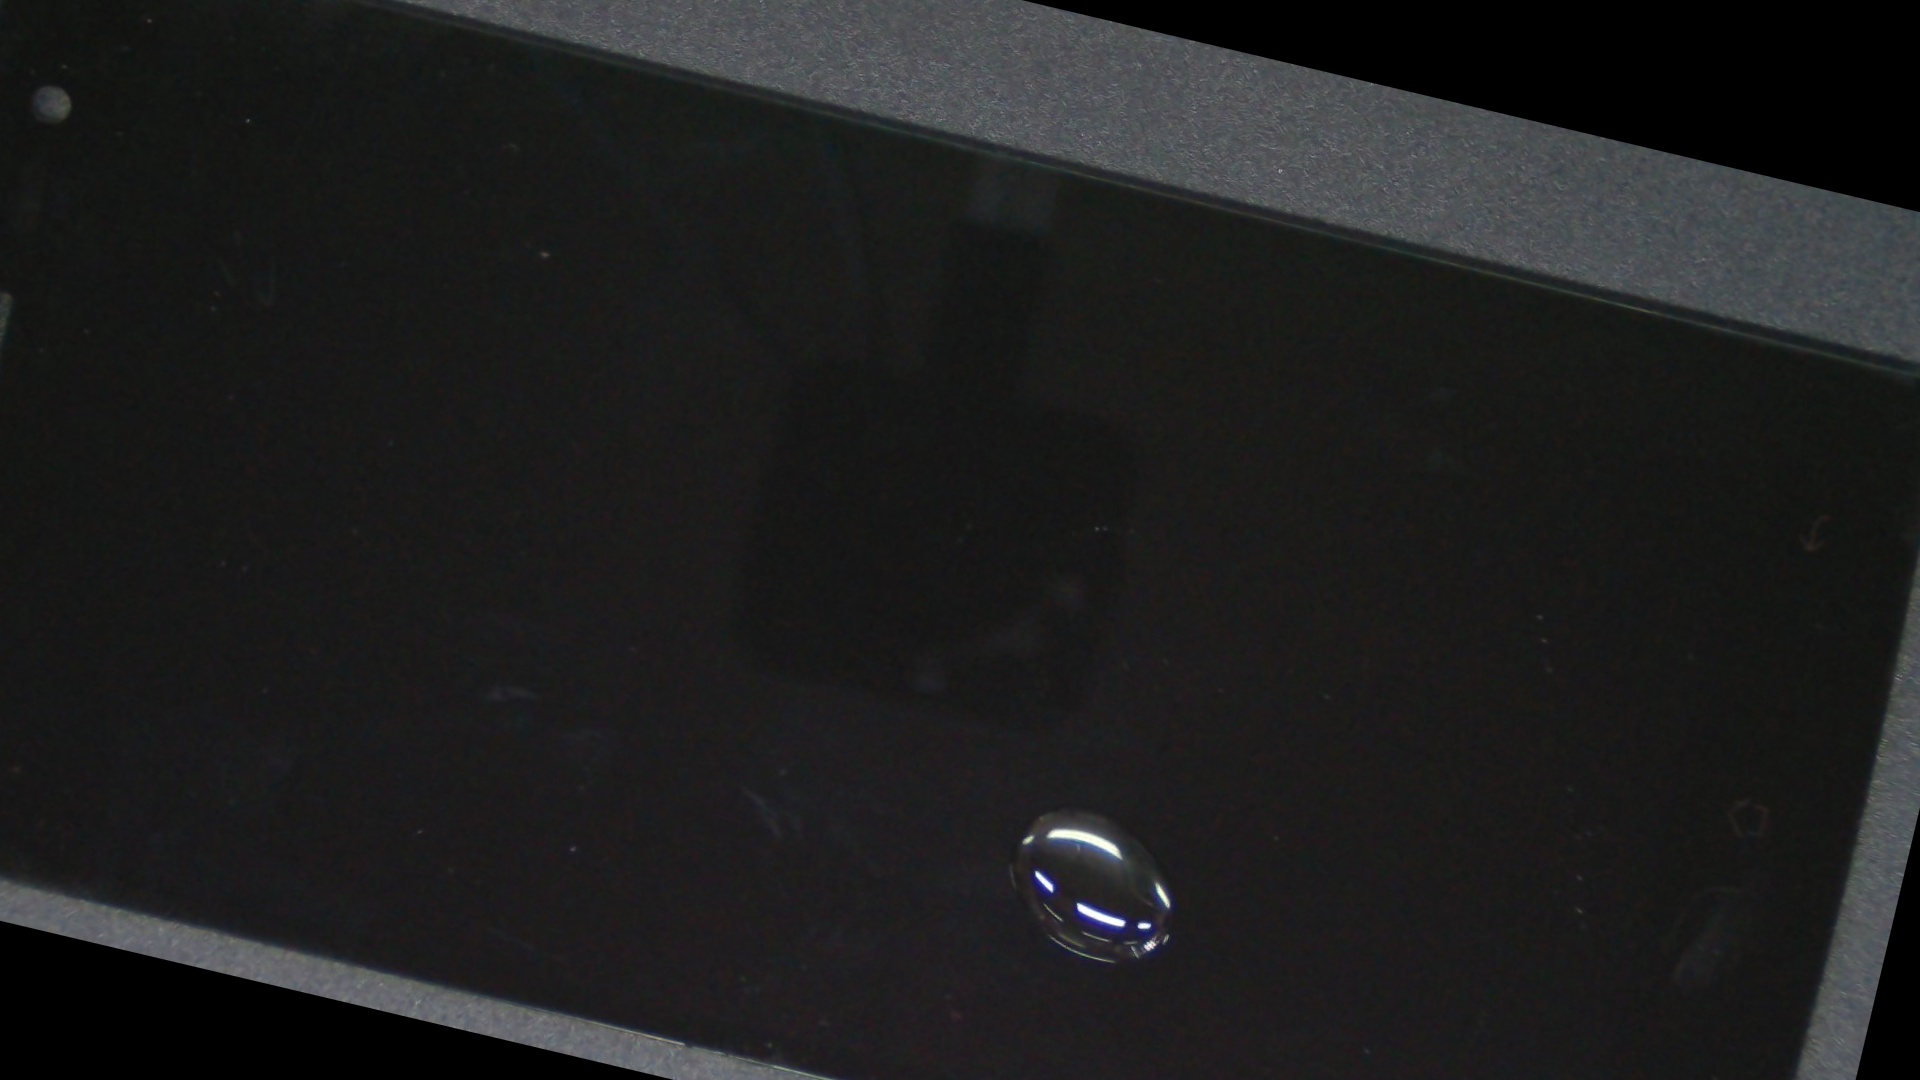oil: (359, 281, 1807, 1080)
